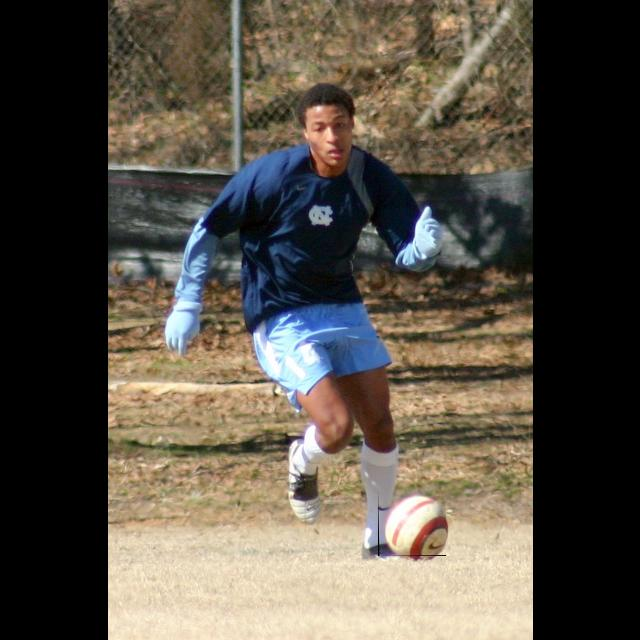Football: (378, 490, 446, 556)
